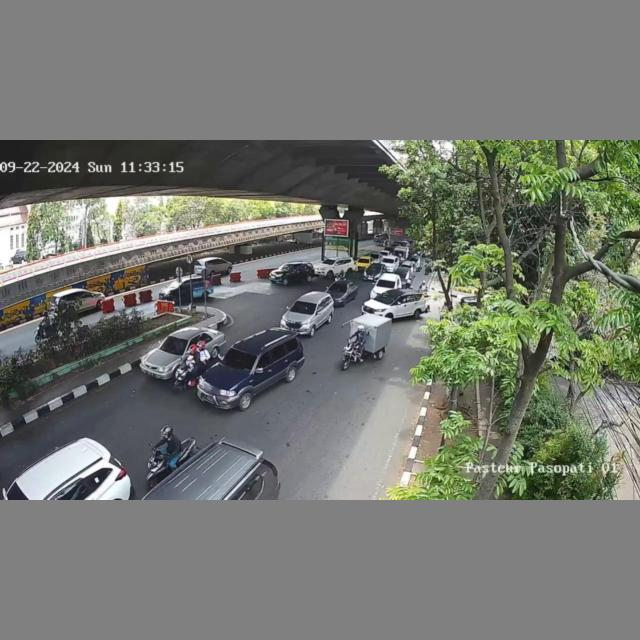windshield: (222, 345, 259, 371), (154, 334, 187, 356), (291, 298, 318, 315), (376, 292, 399, 305), (328, 283, 348, 293), (376, 279, 395, 288)
